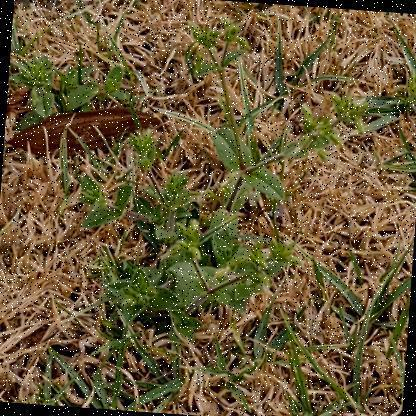Weeds: (69, 7, 375, 360), (6, 49, 133, 133)
